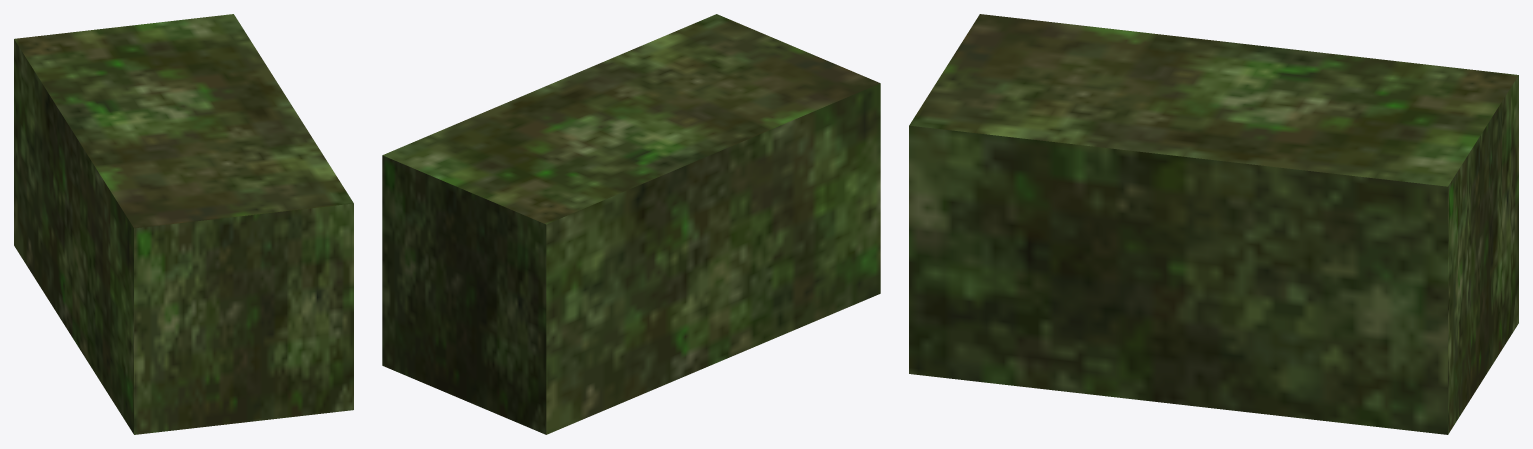
The model's file is OVERHILL_A_01_SMALL_BLOCK_07.fbx.
3 views of the same model, side by side, from view 1: azimuth 30°, elevation 25°; view 2: azimuth 150°, elevation 25°; view 3: azimuth 270°, elevation 25° (orthographic). The views are drawn at different scales.
Parts seen in each view (by area): view 1: OVERHILL_A_01_SMALL_BLOCK_07; view 2: OVERHILL_A_01_SMALL_BLOCK_07; view 3: OVERHILL_A_01_SMALL_BLOCK_07.
Part boxes in pixels (left/top/right/bottom): OVERHILL_A_01_SMALL_BLOCK_07: left=14, top=14, right=353, bottom=434; OVERHILL_A_01_SMALL_BLOCK_07: left=382, top=14, right=880, bottom=434; OVERHILL_A_01_SMALL_BLOCK_07: left=909, top=14, right=1518, bottom=434.
Size of the model in its own units: 11820 by 7925 by 17637.
Materials: 1 (1 with a texture image).
